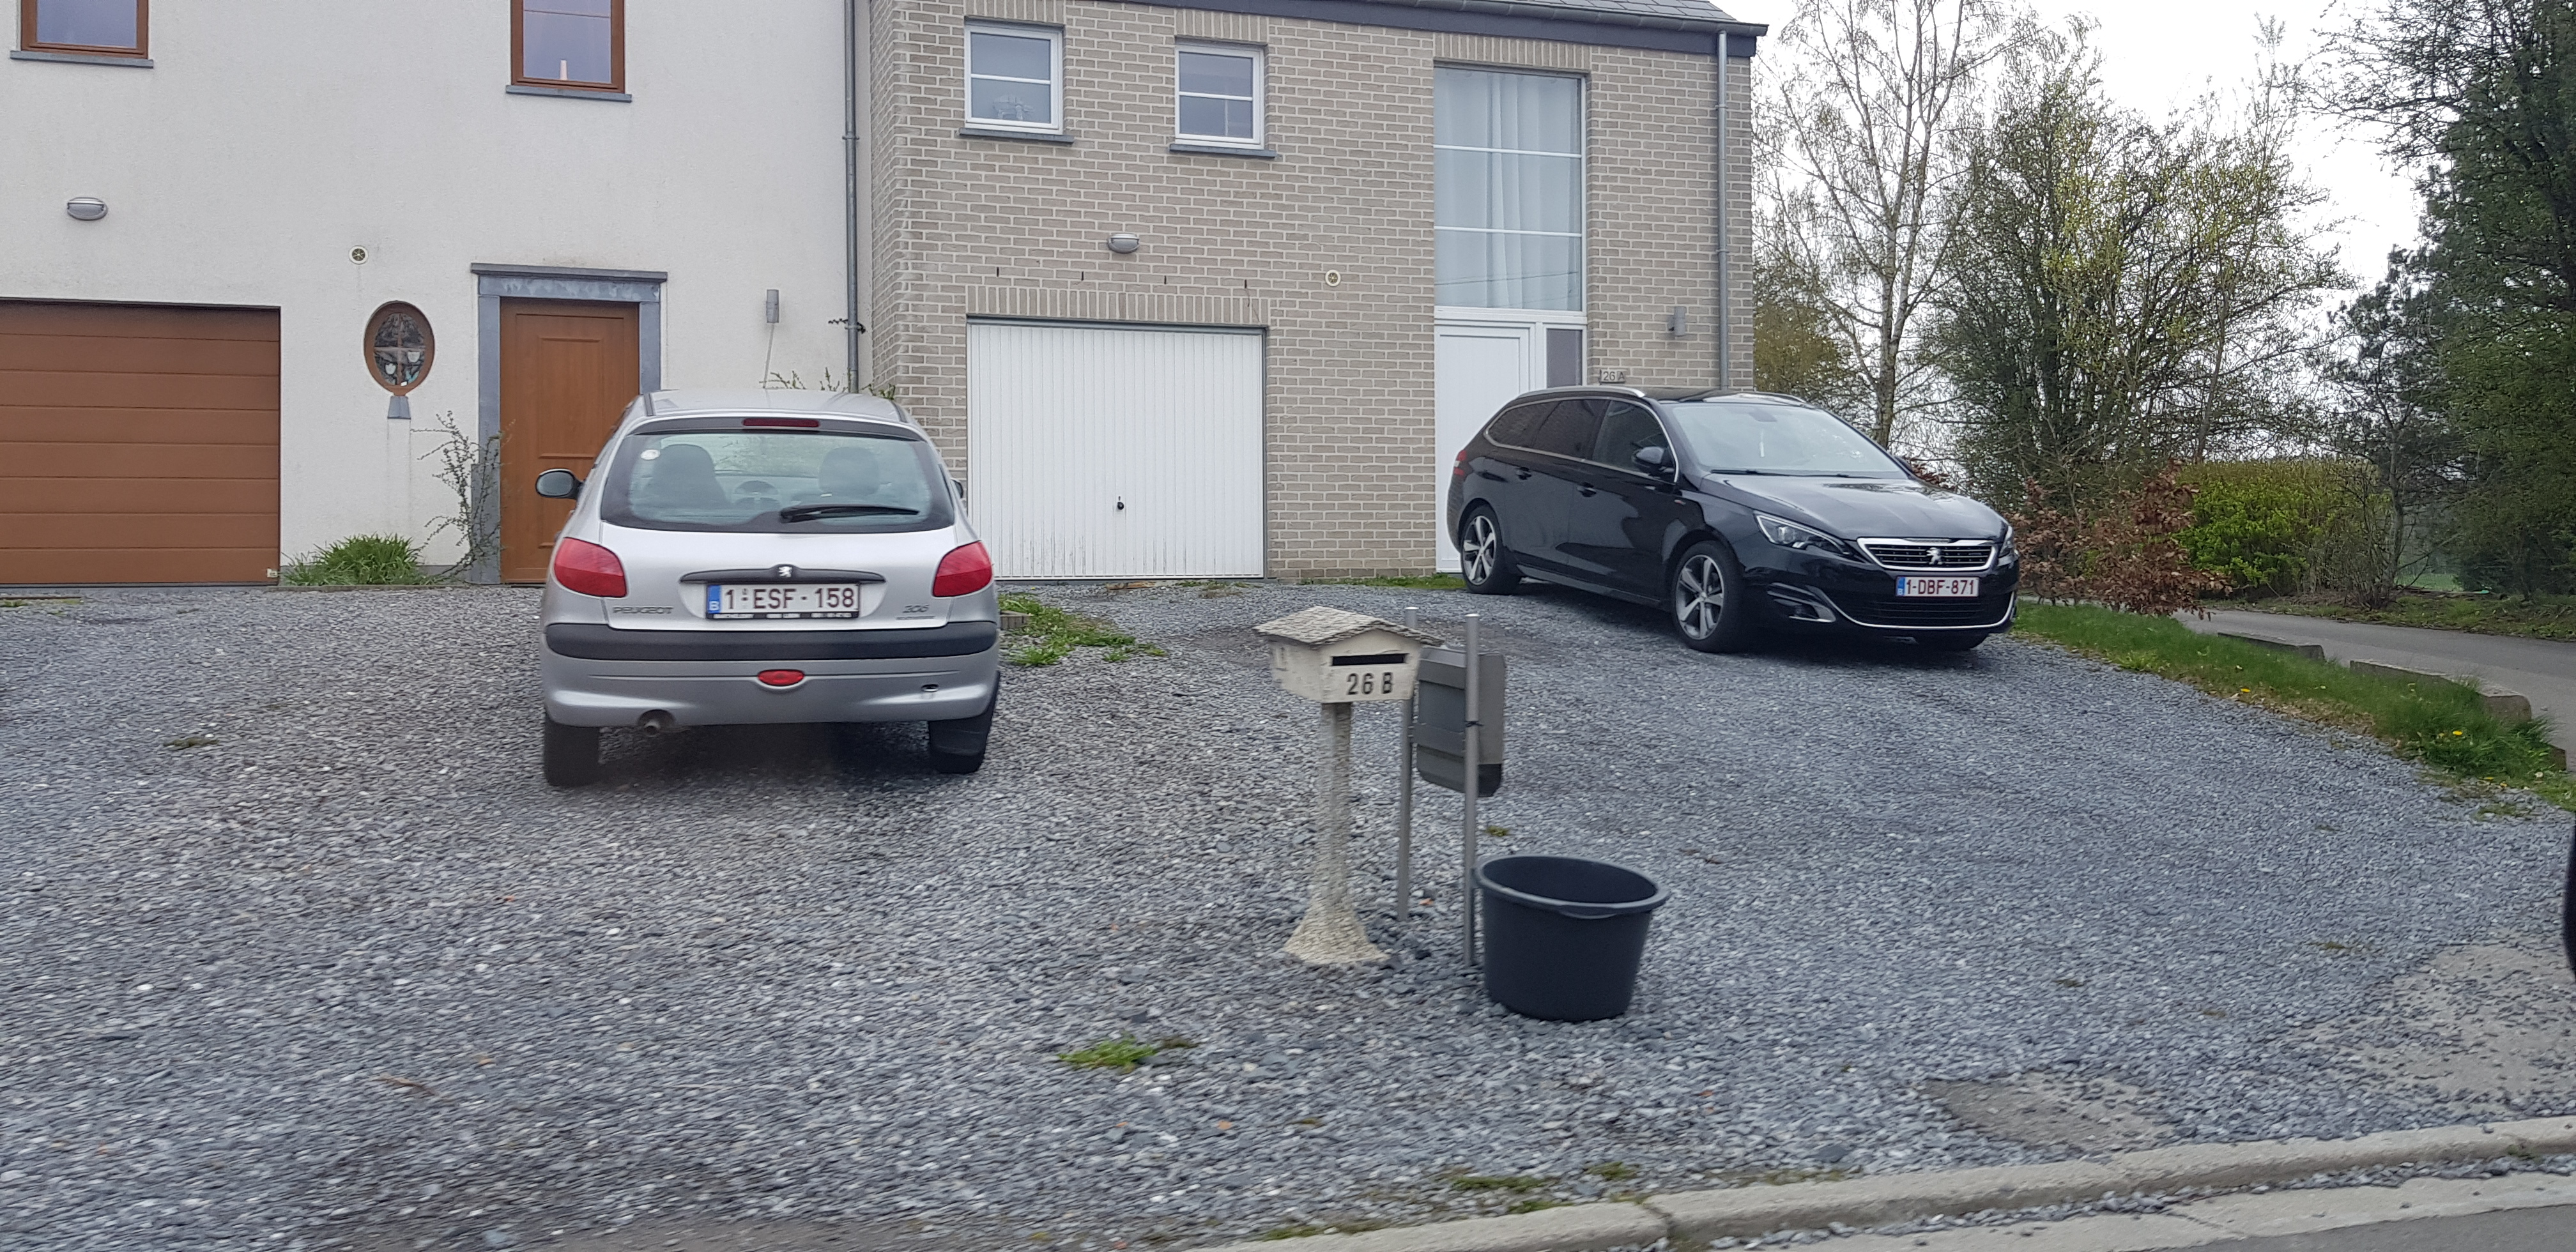licenceplate: (707, 584, 861, 614), (1896, 576, 1980, 599)
